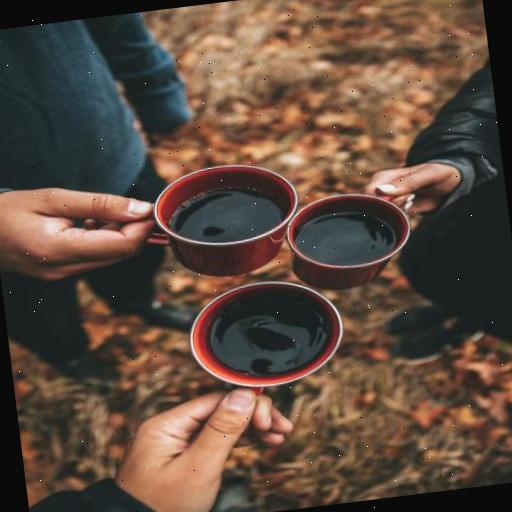cup: (138, 158, 308, 286), (184, 273, 350, 402), (284, 188, 416, 296)
